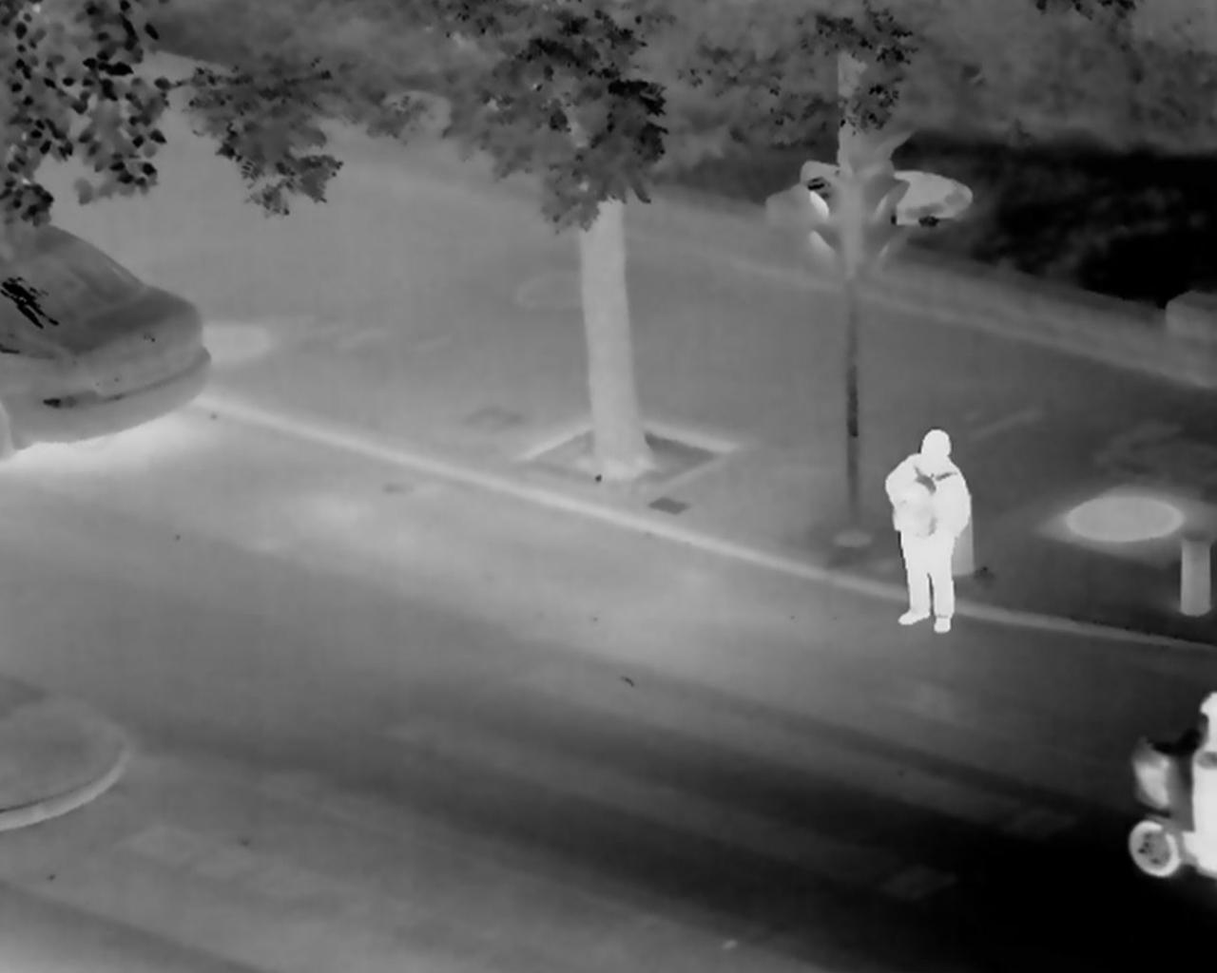person: (869, 429, 991, 652)
